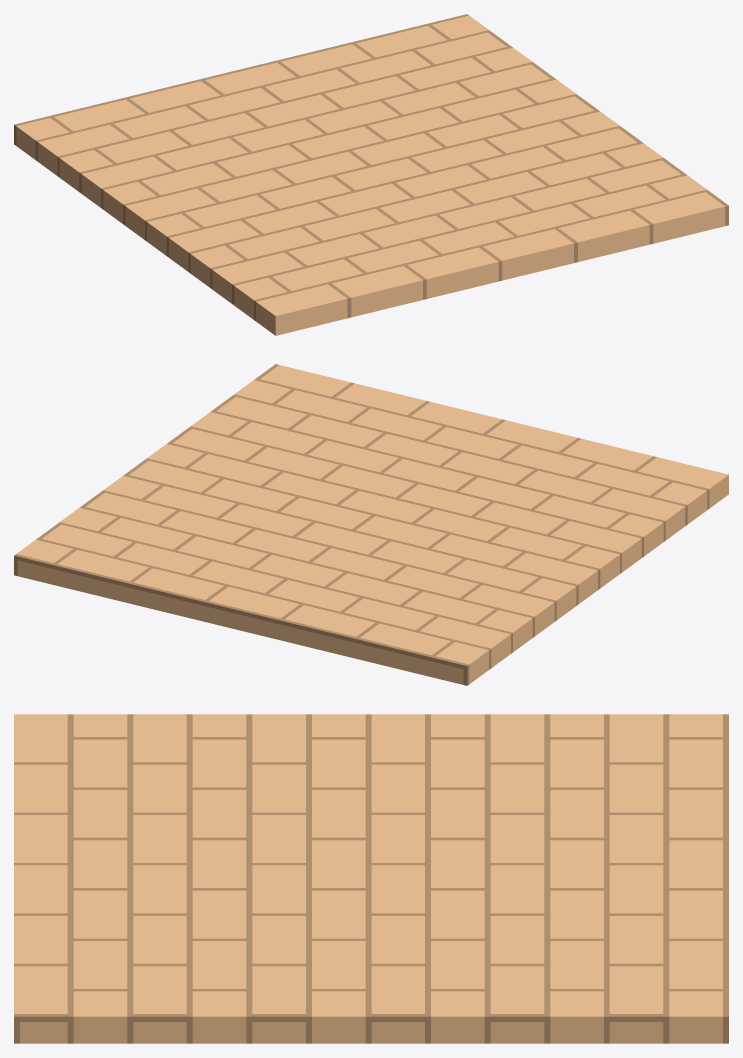
File: floor_test.obj
3 renders of one model, top to bottom at view 1: azimuth 30°, elevation 25°; view 2: azimuth 150°, elevation 25°; view 3: azimuth 270°, elevation 25°, orthographic. The views are drawn at different scales.
Size of the model in its own units: 12 by 0.5 by 12.
Materials: 1 (1 with a texture image).
